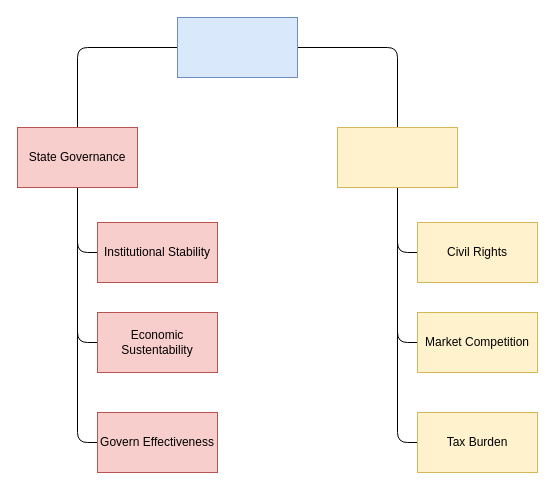
This 555x490 diagram has some shape labels left out. Each missing label, with the centre of its shape:
Freedom: the point at 397,157
Organization: the point at 237,47
